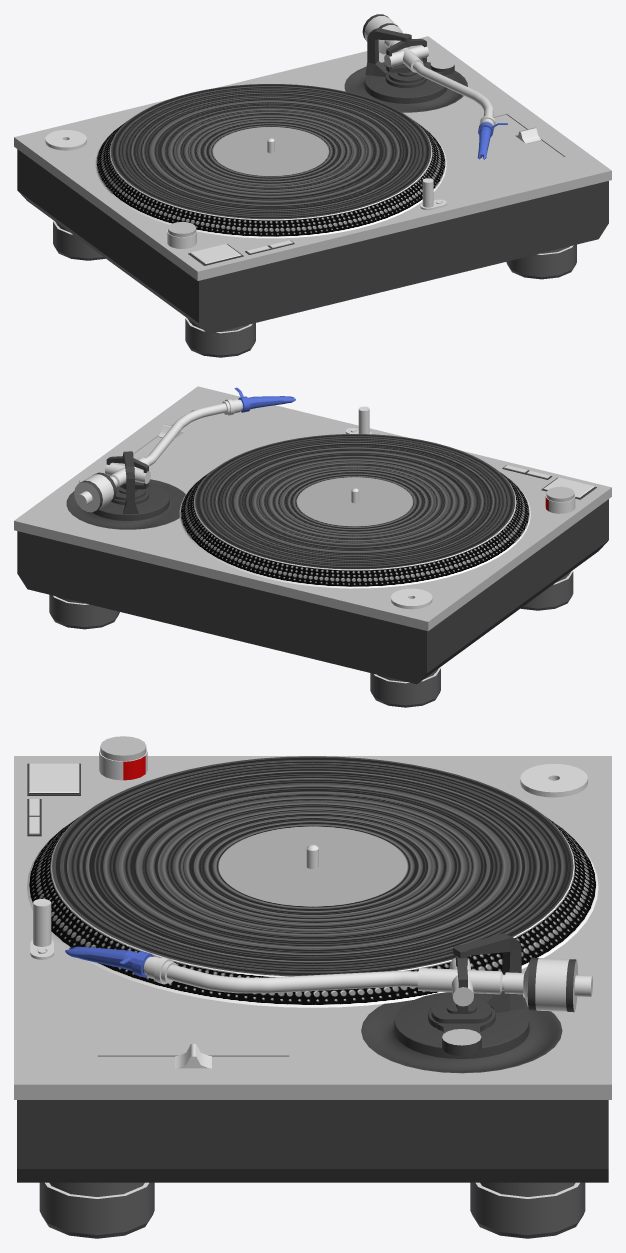
3 views of the same model, one above another, from view 1: azimuth 30°, elevation 25°; view 2: azimuth 150°, elevation 25°; view 3: azimuth 270°, elevation 25° (orthographic). The views are drawn at different scales.
Parts seen in each view (by area): view 1: table_sm, polySurface20, polySurface6, rest_msh1, arm_msh, polySurface8, polySurface9, polySurface2, polySurface10, turner_msh, polySurface15, pPipe1 (+2 smaller); view 2: table_sm, polySurface20, polySurface6, rest_msh1, arm_msh, polySurface2, polySurface7, polySurface8, turner_msh, polySurface15, pPipe1, polySurface10 (+2 smaller); view 3: table_sm, polySurface6, polySurface20, rest_msh1, arm_msh, polySurface7, polySurface9, polySurface10, polySurface15, pPipe1, polySurface14, needle_system_msh (+3 smaller).
Boxes of the visible parts, x1=… form: table_sm: x1=95, y1=84, x2=446, y2=238; polySurface20: x1=17, y1=149, x2=608, y2=334; polySurface6: x1=14, y1=36, x2=611, y2=280; rest_msh1: x1=344, y1=62, x2=467, y2=112; arm_msh: x1=362, y1=14, x2=495, y2=128; polySurface8: x1=185, y1=317, x2=255, y2=357; polySurface9: x1=506, y1=244, x2=576, y2=279; polySurface2: x1=53, y1=220, x2=105, y2=260; polySurface10: x1=365, y1=28, x2=411, y2=76; turner_msh: x1=384, y1=39, x2=428, y2=72; polySurface15: x1=167, y1=222, x2=196, y2=248; pPipe1: x1=45, y1=130, x2=86, y2=150; table_sm: x1=179, y1=434, x2=530, y2=588; polySurface20: x1=17, y1=499, x2=608, y2=684; polySurface6: x1=14, y1=386, x2=611, y2=630; rest_msh1: x1=66, y1=479, x2=185, y2=529; arm_msh: x1=74, y1=399, x2=242, y2=512; polySurface2: x1=370, y1=667, x2=440, y2=707; polySurface7: x1=49, y1=594, x2=119, y2=629; polySurface8: x1=521, y1=570, x2=573, y2=610; turner_msh: x1=105, y1=456, x2=150, y2=489; polySurface15: x1=545, y1=486, x2=575, y2=513; pPipe1: x1=391, y1=588, x2=432, y2=609; polySurface10: x1=123, y1=451, x2=138, y2=514; table_sm: x1=27, y1=756, x2=598, y2=1007; polySurface6: x1=14, y1=756, x2=611, y2=1099; polySurface20: x1=17, y1=1100, x2=608, y2=1182; rest_msh1: x1=361, y1=992, x2=562, y2=1073; arm_msh: x1=143, y1=956, x2=592, y2=1012; polySurface7: x1=470, y1=1182, x2=585, y2=1238; polySurface9: x1=39, y1=1182, x2=154, y2=1238; polySurface10: x1=453, y1=933, x2=525, y2=1013; polySurface15: x1=99, y1=736, x2=147, y2=780; pPipe1: x1=520, y1=763, x2=587, y2=797; polySurface14: x1=27, y1=763, x2=80, y2=795; needle_system_msh: x1=65, y1=946, x2=153, y2=977.
Size of the model in its own units: 64 by 22.57 by 49.19.
